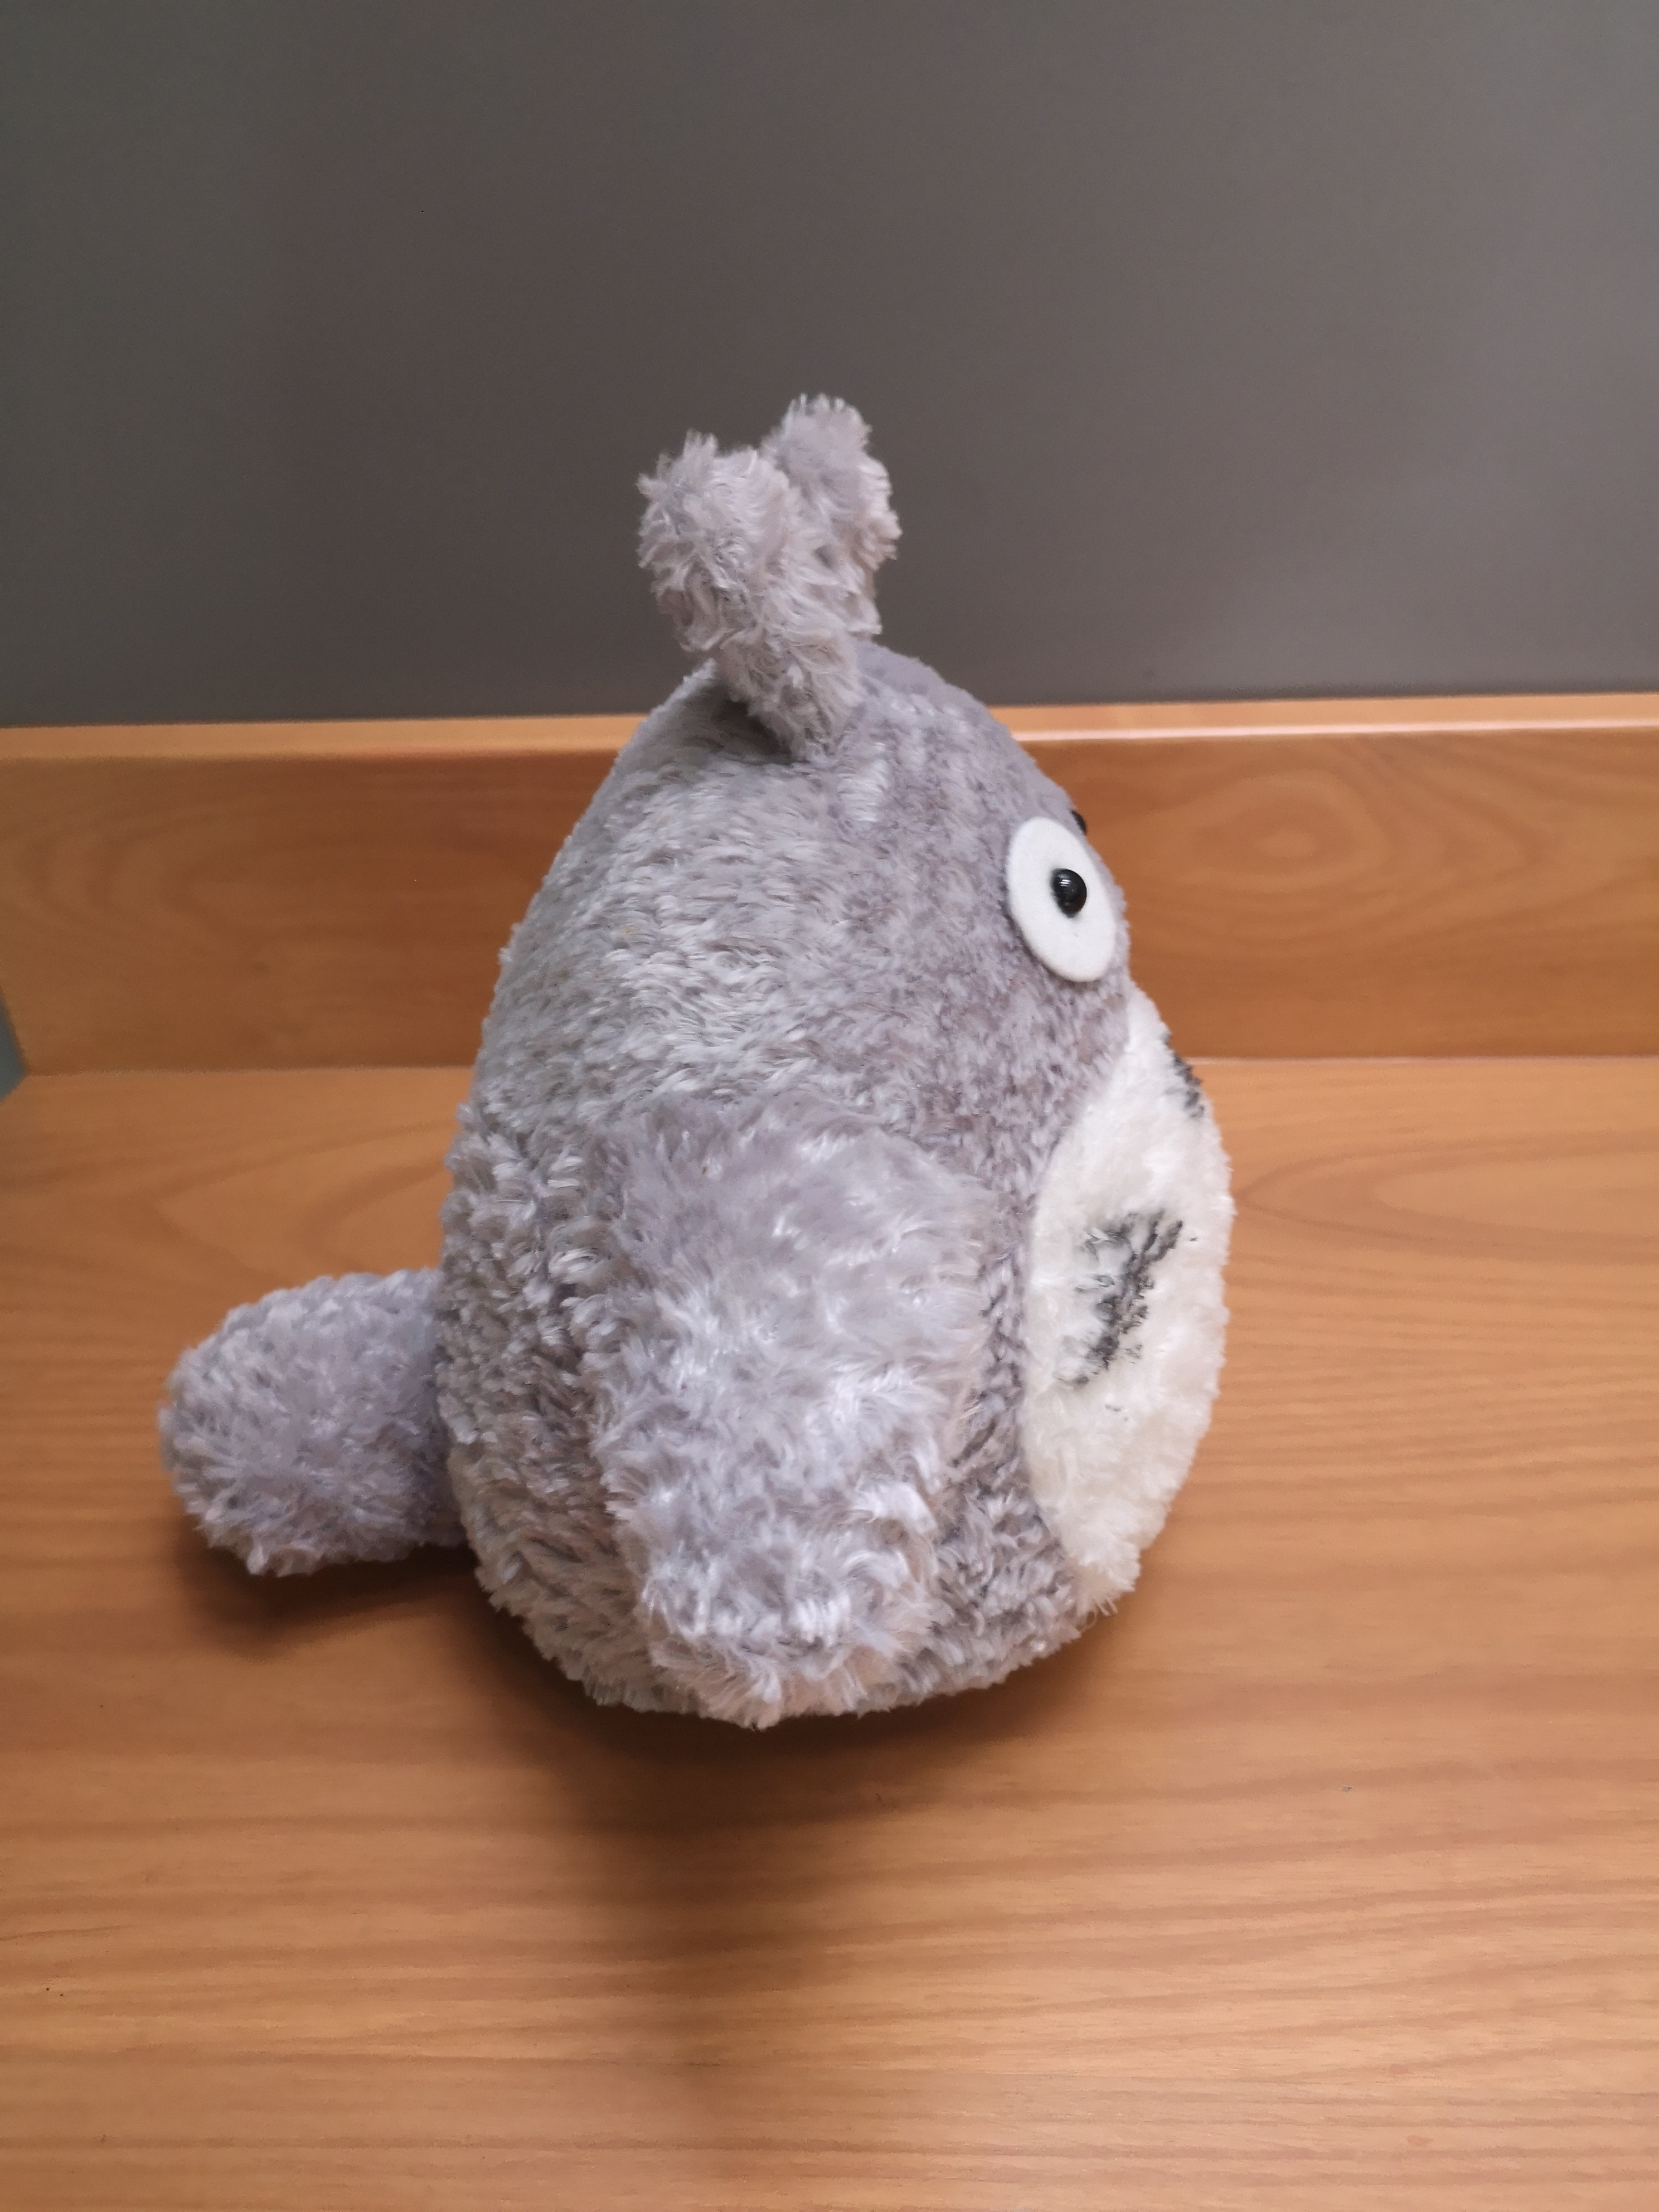totoro: (145, 378, 1249, 1777)
